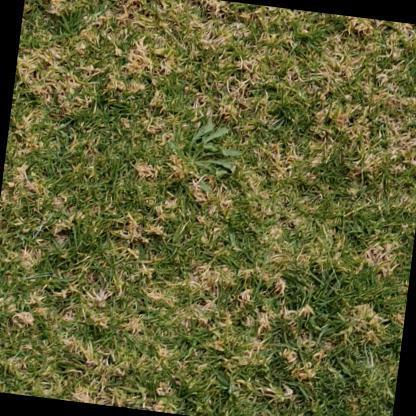Weeds: (163, 118, 244, 195)
